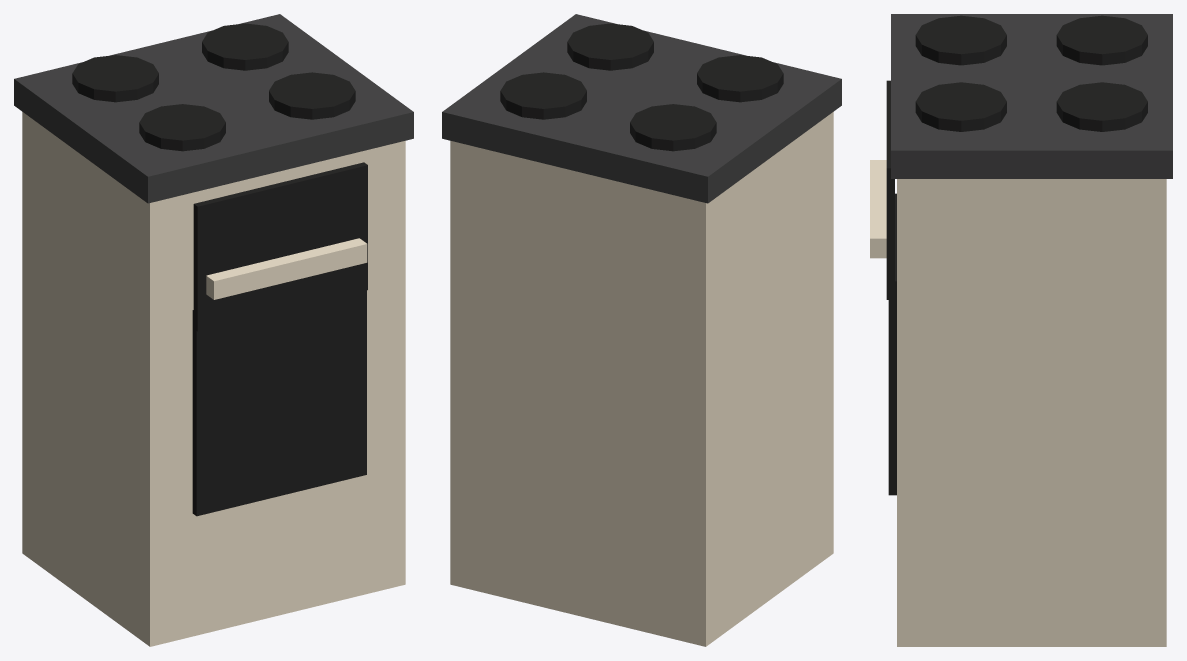
3 views of the same model, side by side, from view 1: azimuth 30°, elevation 25°; view 2: azimuth 150°, elevation 25°; view 3: azimuth 270°, elevation 25° (orthographic). The views are drawn at different scales.
Visible parts, largest first — view 1: Stove, Hob, Oven window, Upper oven window, Door handle, Burner.002, Burner.003, Burner, Burner.001; view 2: Stove, Hob, Burner.003, Burner.002, Burner.001, Burner; view 3: Stove, Hob, Burner, Burner.001, Burner.002, Burner.003, Oven window, Door handle, Upper oven window.
Part boxes in pixels (<box>): Stove: <box>22,112,405,646</box>; Hob: <box>14,14,413,203</box>; Oven window: <box>192,290,366,516</box>; Upper oven window: <box>193,162,367,331</box>; Door handle: <box>206,238,367,299</box>; Burner.002: <box>269,72,355,119</box>; Burner.003: <box>202,23,288,70</box>; Burner: <box>139,104,225,151</box>; Burner.001: <box>72,55,158,102</box>; Stove: <box>450,112,833,646</box>; Hob: <box>442,14,841,203</box>; Burner.003: <box>500,72,586,119</box>; Burner.002: <box>567,23,653,70</box>; Burner.001: <box>630,104,716,151</box>; Burner: <box>697,55,783,102</box>; Stove: <box>897,179,1166,646</box>; Hob: <box>891,14,1172,178</box>; Burner: <box>915,15,1006,65</box>; Burner.001: <box>1056,15,1147,65</box>; Burner.002: <box>915,82,1006,131</box>; Burner.003: <box>1056,82,1147,131</box>; Oven window: <box>888,193,896,495</box>; Door handle: <box>870,160,886,258</box>; Upper oven window: <box>886,80,894,299</box>.
Bounding box in the file's own units: 78 × 136 × 73.
